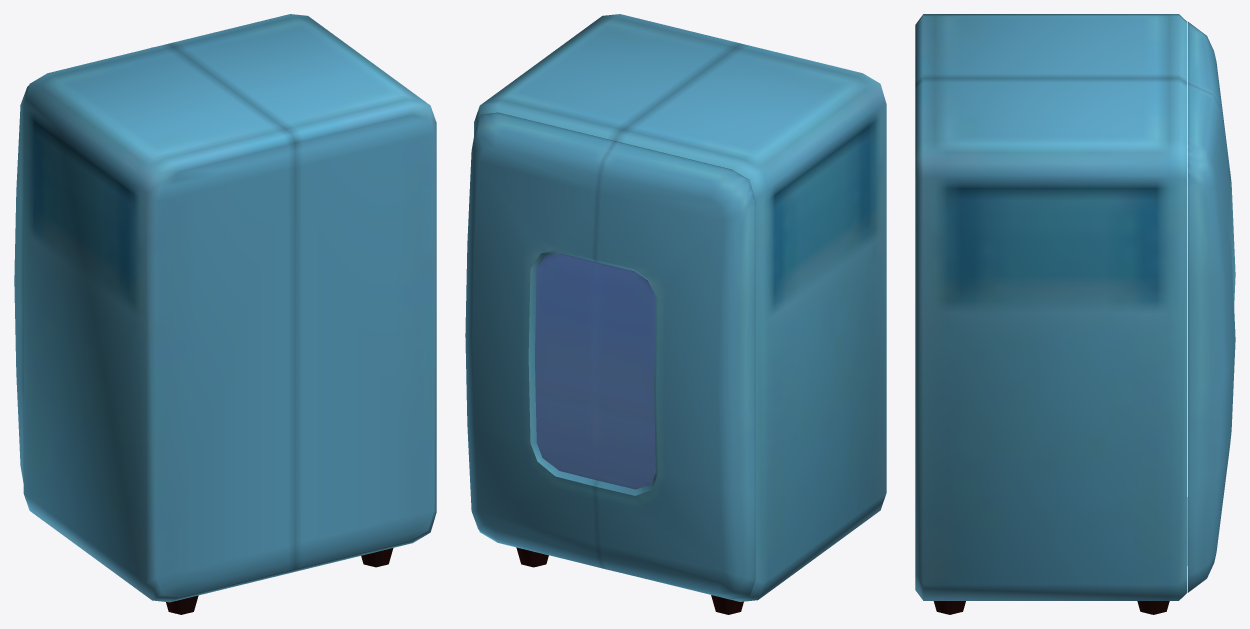
Rendered from Fridge_02.gltf.
3 renders of one model, left to right at view 1: azimuth 30°, elevation 25°; view 2: azimuth 150°, elevation 25°; view 3: azimuth 270°, elevation 25°, orthographic. The views are drawn at different scales.
Visible parts, largest first — view 1: Fridge_02; view 2: Fridge_02; view 3: Fridge_02.
Boxes of the visible parts, x1=… form: Fridge_02: x1=14, y1=14, x2=436, y2=614; Fridge_02: x1=465, y1=14, x2=886, y2=614; Fridge_02: x1=915, y1=14, x2=1235, y2=614.
Size of the model in its own units: 25.58 by 38.81 by 23.43.
1 material, 1 textured.
